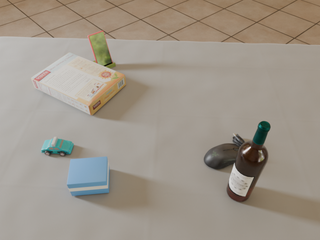bottle: (227, 121, 270, 202)
box: (31, 53, 126, 115), (67, 157, 110, 196)
mouse: (204, 134, 245, 169)
phone: (88, 31, 113, 66)
toy_car: (41, 137, 74, 156)
